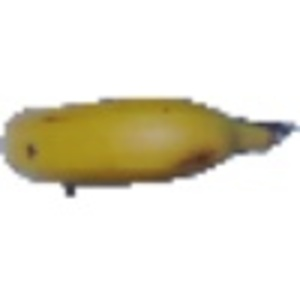banana: (2, 89, 280, 191)
